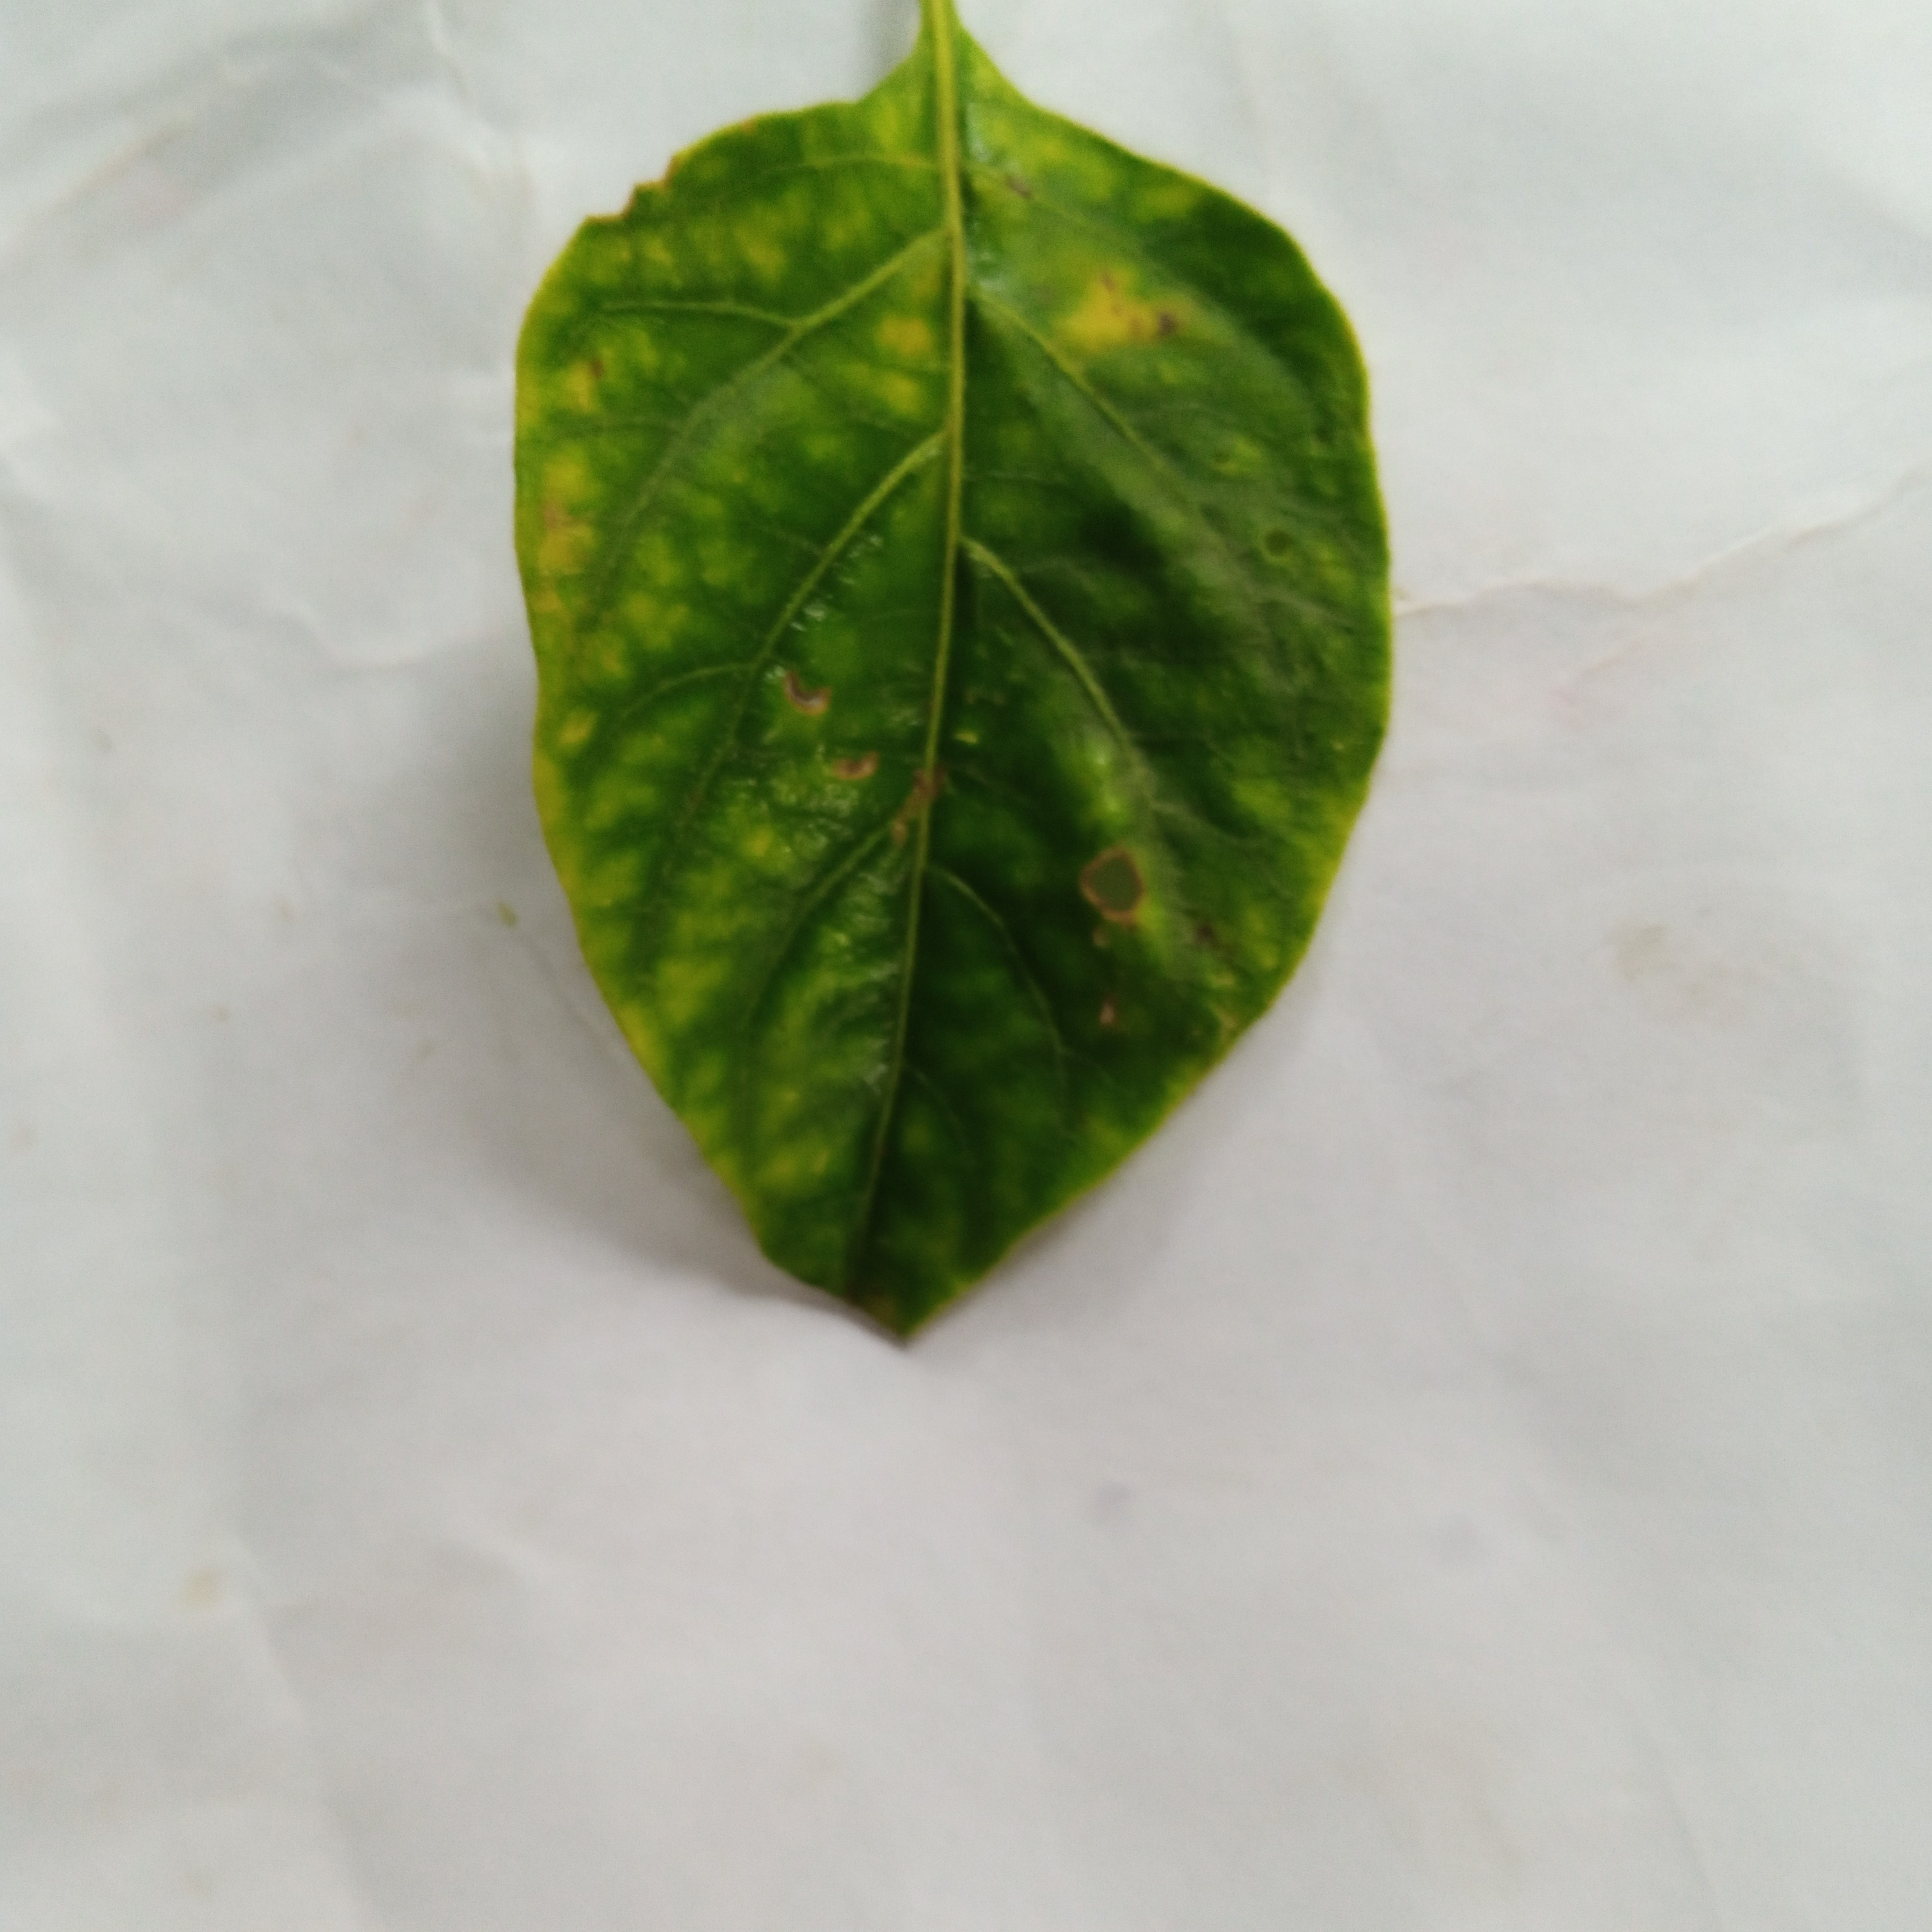Leaf: (419, 37, 1499, 1384)
